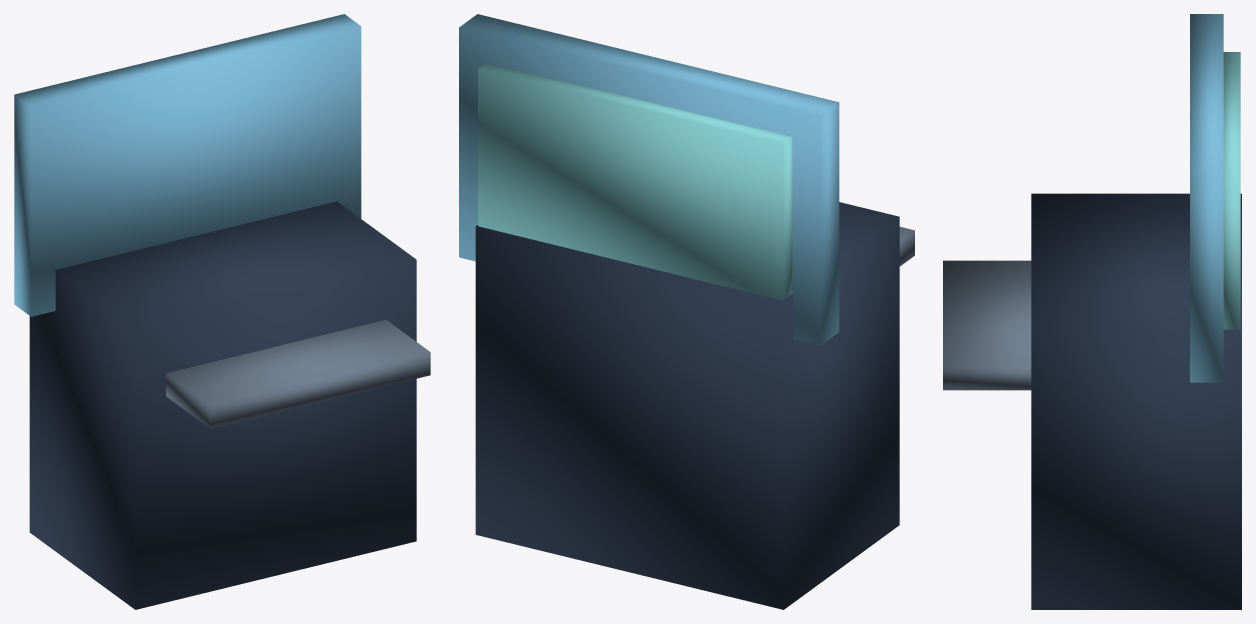
File: ground-terminal-v1.gltf
3 renders of one model, left to right at view 1: azimuth 30°, elevation 25°; view 2: azimuth 150°, elevation 25°; view 3: azimuth 270°, elevation 25°, orthographic. The views are drawn at different scales.
Parts seen in each view (by area): view 1: ground-terminal-v1-00, ground-terminal-v1-01, ground-terminal-v1-03; view 2: ground-terminal-v1-00, ground-terminal-v1-02, ground-terminal-v1-01; view 3: ground-terminal-v1-00, ground-terminal-v1-01, ground-terminal-v1-03, ground-terminal-v1-02.
Part boxes in pixels (<box>): ground-terminal-v1-00: <box>29,201,416,609</box>; ground-terminal-v1-01: <box>14,14,361,316</box>; ground-terminal-v1-03: <box>166,320,430,428</box>; ground-terminal-v1-00: <box>475,202,899,609</box>; ground-terminal-v1-02: <box>478,62,792,300</box>; ground-terminal-v1-01: <box>459,14,839,345</box>; ground-terminal-v1-00: <box>1031,193,1241,609</box>; ground-terminal-v1-01: <box>1190,14,1223,382</box>; ground-terminal-v1-03: <box>943,260,1031,390</box>; ground-terminal-v1-02: <box>1223,52,1240,329</box>.
Size of the model in its own units: 1.35 by 1.76 by 1.06.
